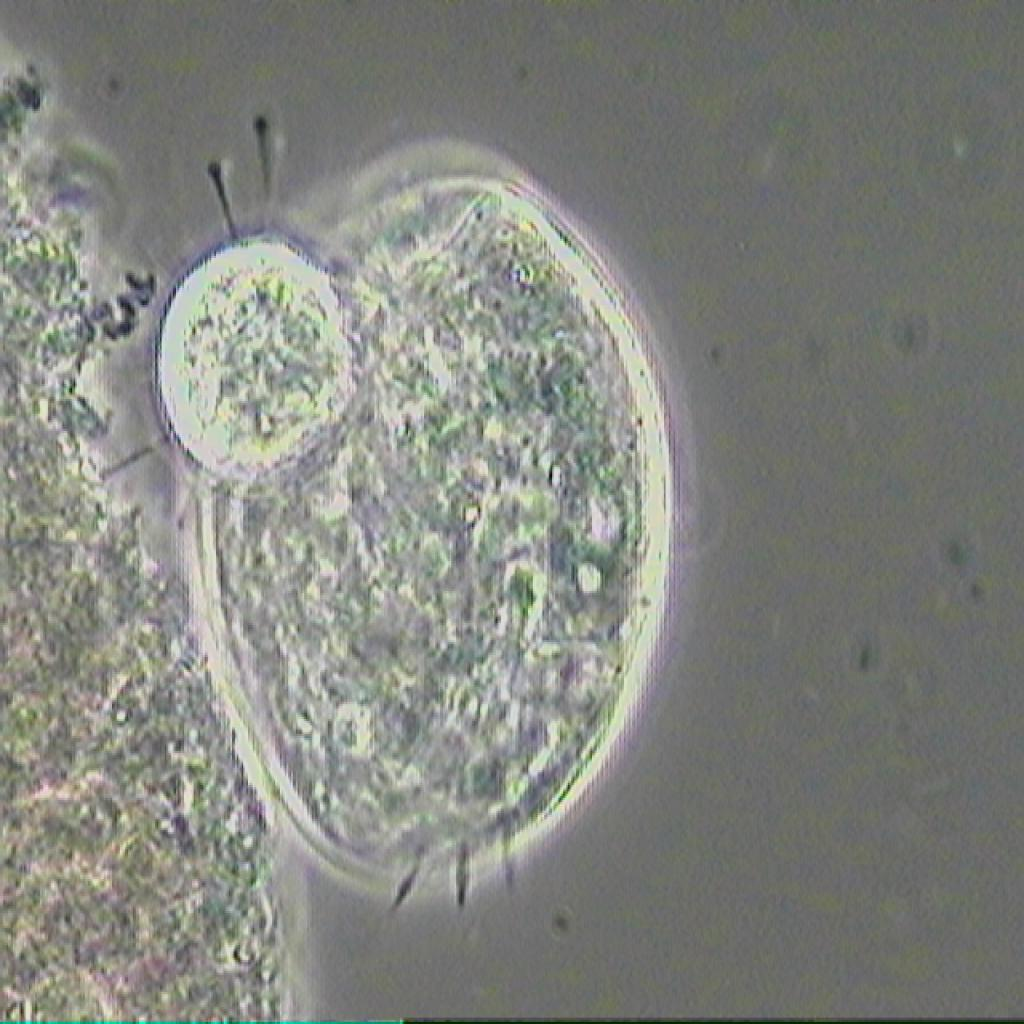Suctorida: (145, 82, 759, 980)
